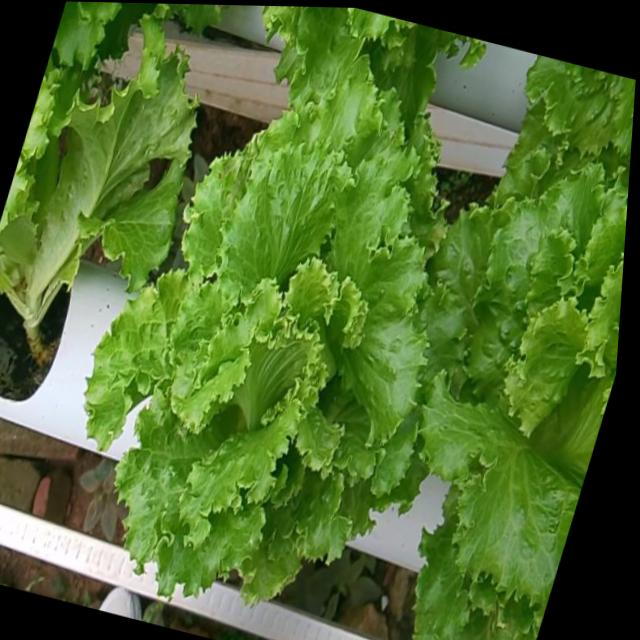Mature: (92, 93, 451, 611), (424, 176, 627, 622)
